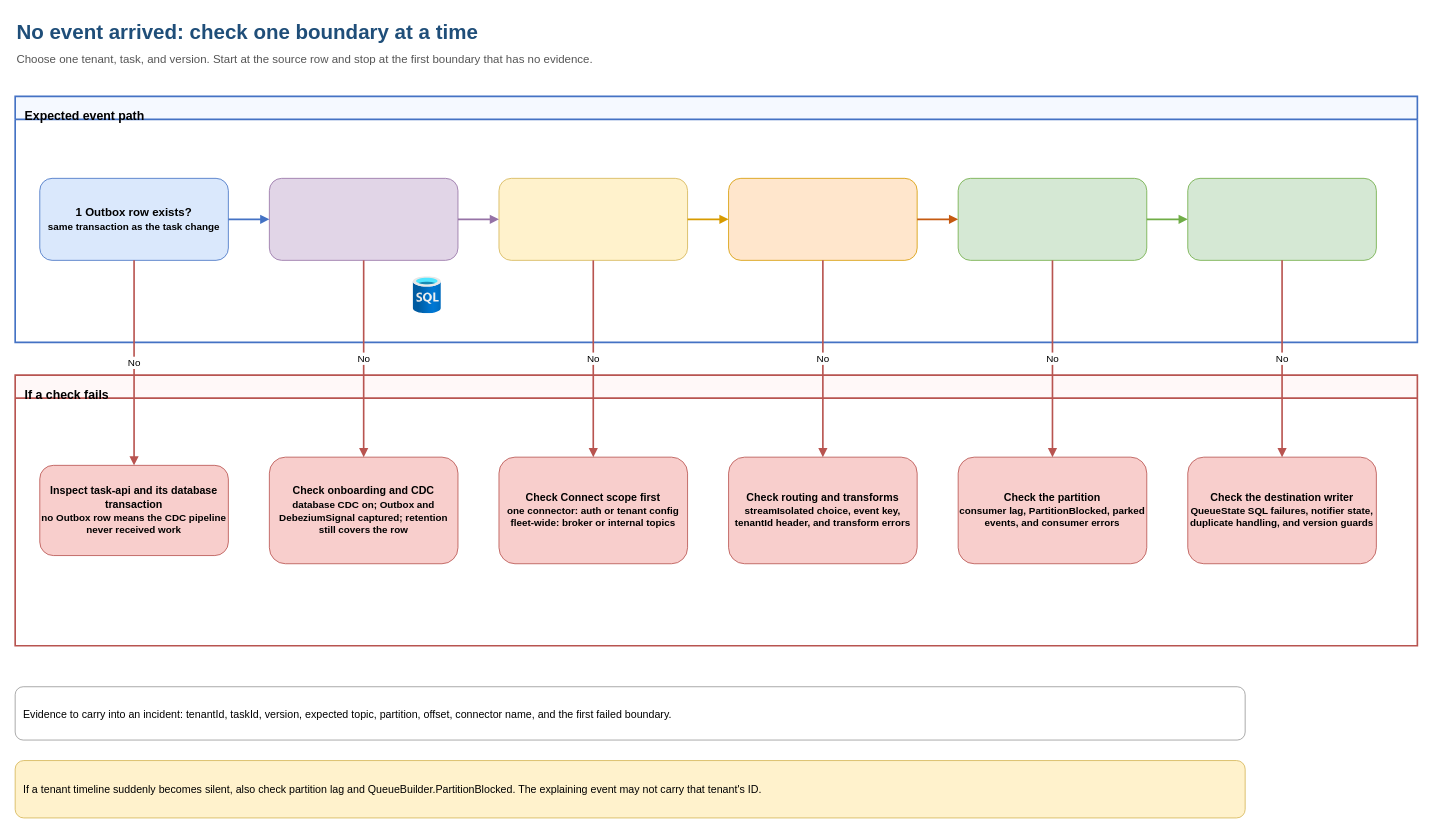
Some shapes in this 1432 by 832 pixel diagram are drawn without their labels. Each missing label, with the centre of its shape:
"2 CDC captured it? Outbox capture instance advances" belongs at (363,219).
"3 Connector is moving? task RUNNING and source offset advances" belongs at (593,219).
"4 Record is on the expected topic? shared or stream-isolated route" belongs at (822,219).
"5 Consumer is moving? group offset advances on this partition" belongs at (1052,219).
"6 Destination changed? QueueState or notification state" belongs at (1281,219).
"Azure SQL" belongs at (426,294).
